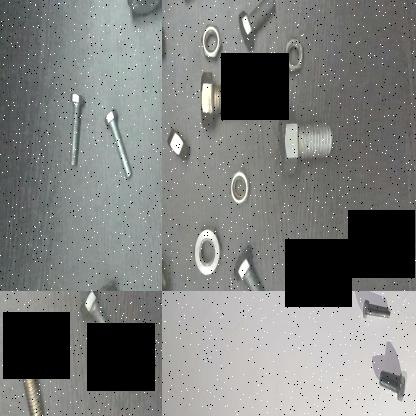Bolts: (183, 68, 262, 130), (273, 106, 335, 178), (96, 99, 138, 186), (8, 335, 48, 416), (62, 88, 94, 180), (232, 0, 280, 53), (82, 291, 120, 352), (231, 246, 271, 291), (377, 356, 408, 404), (360, 292, 392, 327)
NUTS: (189, 223, 222, 281), (162, 118, 192, 170), (280, 29, 308, 78), (226, 169, 253, 208), (198, 22, 224, 60), (162, 252, 174, 291)
